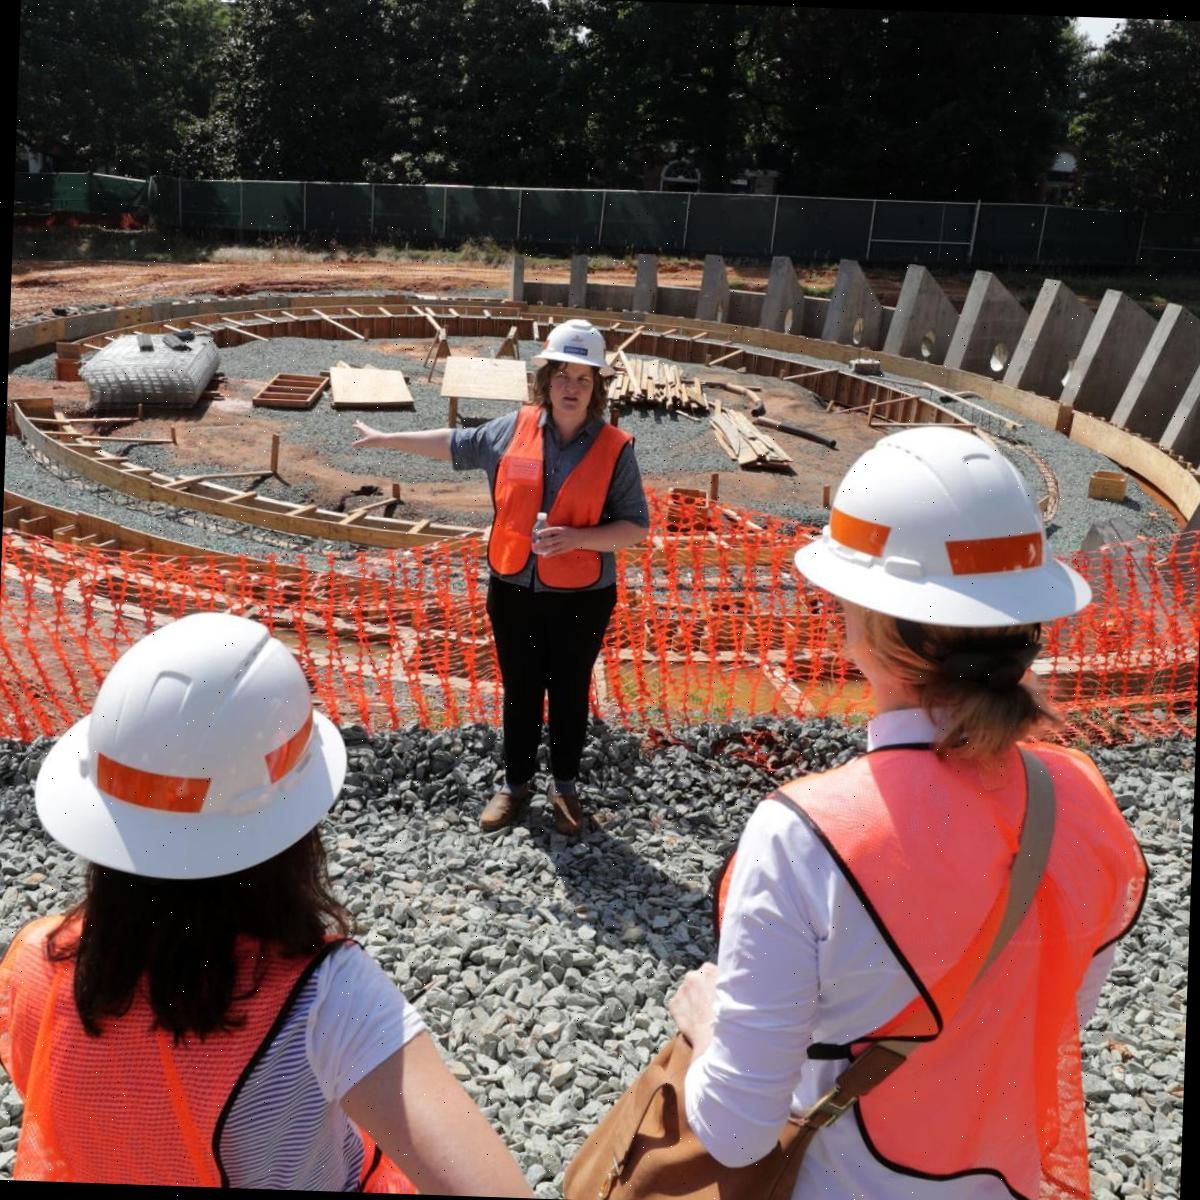helmet: (30, 603, 348, 877), (789, 413, 1101, 631), (536, 314, 614, 375)
wear: (748, 745, 1127, 1200), (0, 921, 420, 1189), (489, 419, 637, 592)
